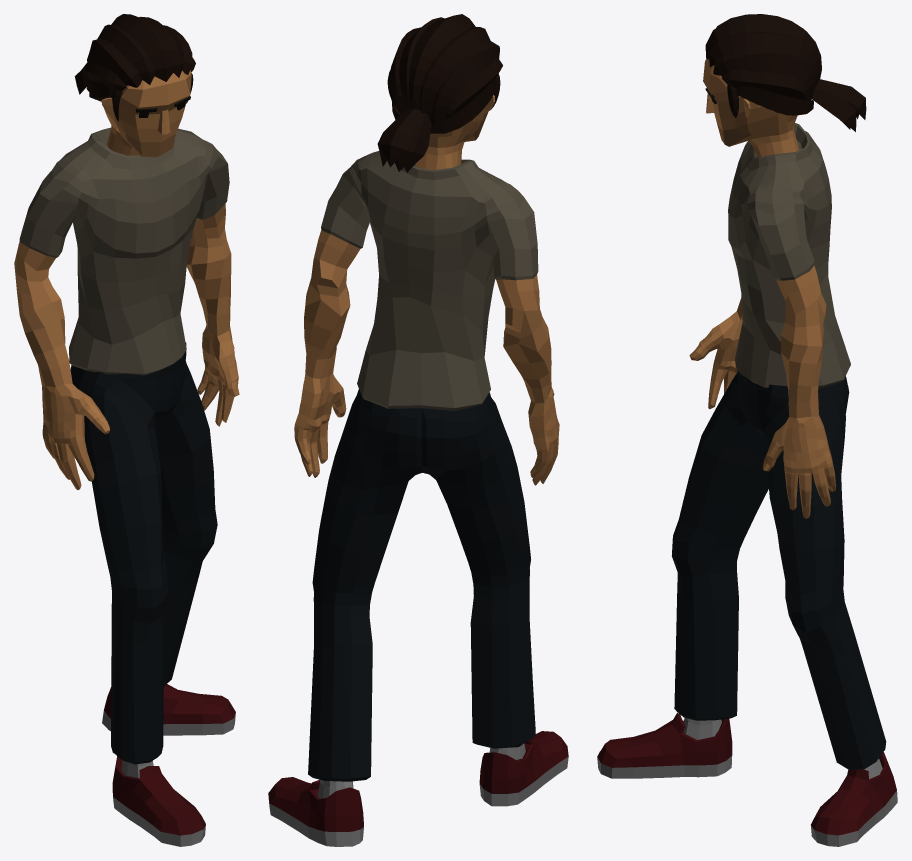
3 renders of one model, left to right at view 1: azimuth 30°, elevation 25°; view 2: azimuth 150°, elevation 25°; view 3: azimuth 270°, elevation 25°, orthographic. The views are drawn at different scales.
Visible parts, largest first — view 1: Casual2_Body_static, Casual2_Legs_static, Casual2_Head_static, Casual2_Feet_static; view 2: Casual2_Body_static, Casual2_Legs_static, Casual2_Head_static, Casual2_Feet_static; view 3: Casual2_Legs_static, Casual2_Body_static, Casual2_Head_static, Casual2_Feet_static.
Part boxes in pixels (x1,y1,x2,y2): Casual2_Body_static: [14, 127, 239, 489]; Casual2_Legs_static: [70, 342, 217, 764]; Casual2_Head_static: [74, 14, 195, 157]; Casual2_Feet_static: [102, 684, 235, 846]; Casual2_Body_static: [294, 151, 559, 485]; Casual2_Legs_static: [308, 389, 535, 781]; Casual2_Head_static: [377, 14, 502, 172]; Casual2_Feet_static: [268, 731, 568, 846]; Casual2_Legs_static: [672, 371, 886, 769]; Casual2_Body_static: [689, 123, 850, 518]; Casual2_Head_static: [703, 14, 866, 156]; Casual2_Feet_static: [597, 713, 897, 846].
Bounding box in the file's own units: 0.5964 × 1.81 × 0.6427.
